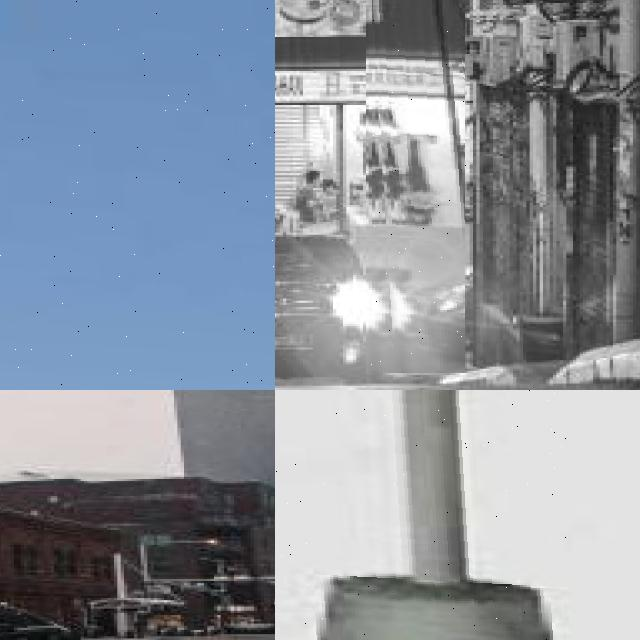street light: (0, 0, 275, 390), (275, 390, 571, 640), (366, 0, 466, 373), (141, 539, 222, 632)
